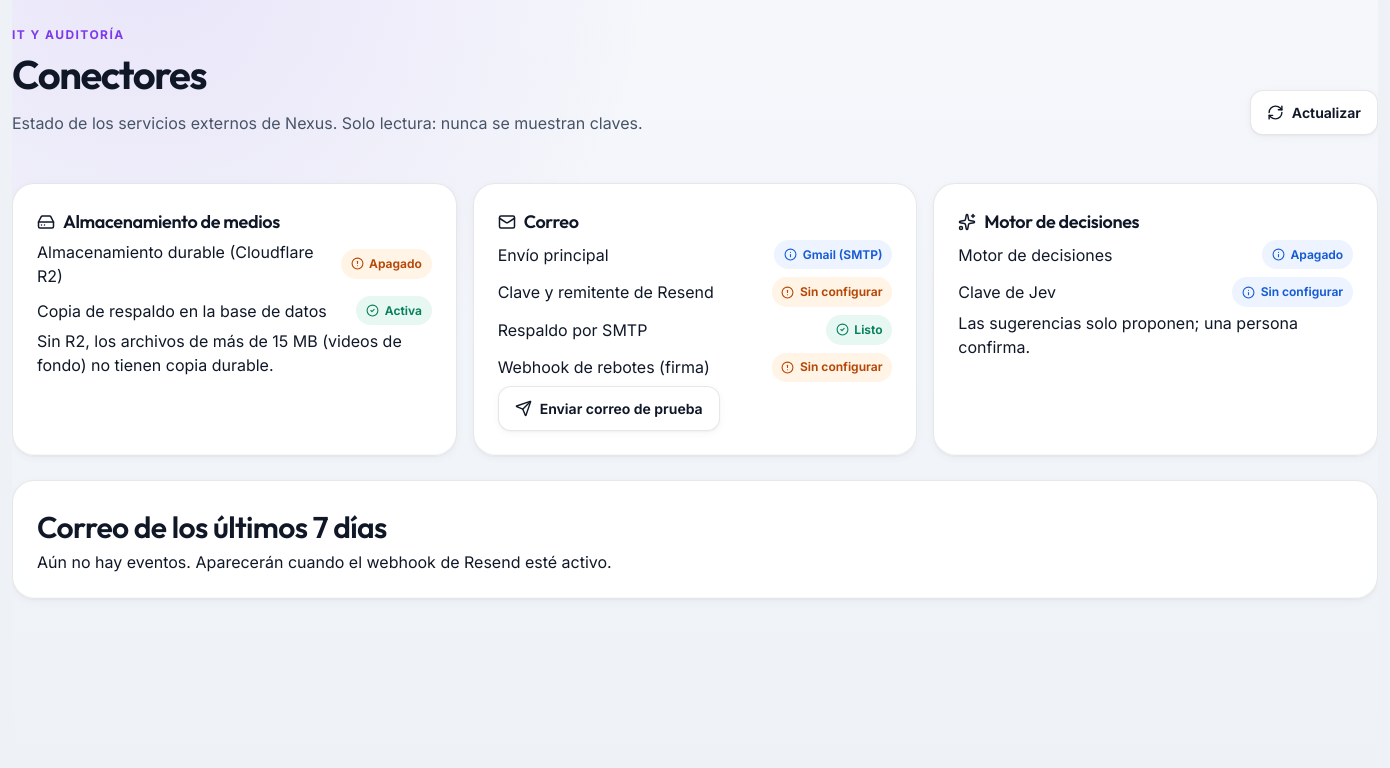
Test: explains a failed test email and the rate limit
This screenshot has width=1390, height=768.
Click the button "Enviar correo de prueba" at x=609, y=409, box left=498, top=386, right=720, bottom=431
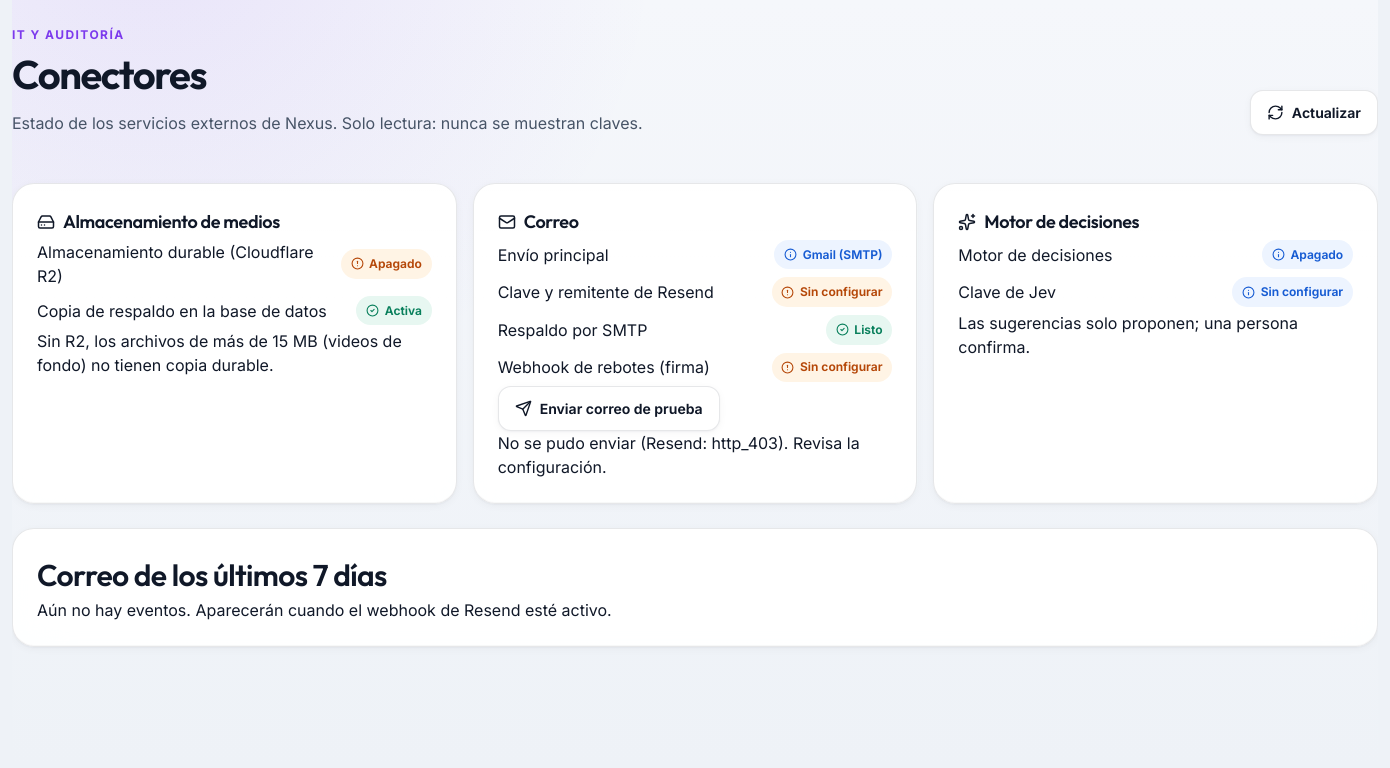
Result: the message "No se pudo enviar (Resend: http_403). Revisa la configuración." is shown at left=498, top=431, right=892, bottom=479
Click the button "Enviar correo de prueba" at x=609, y=409, box left=498, top=386, right=720, bottom=431
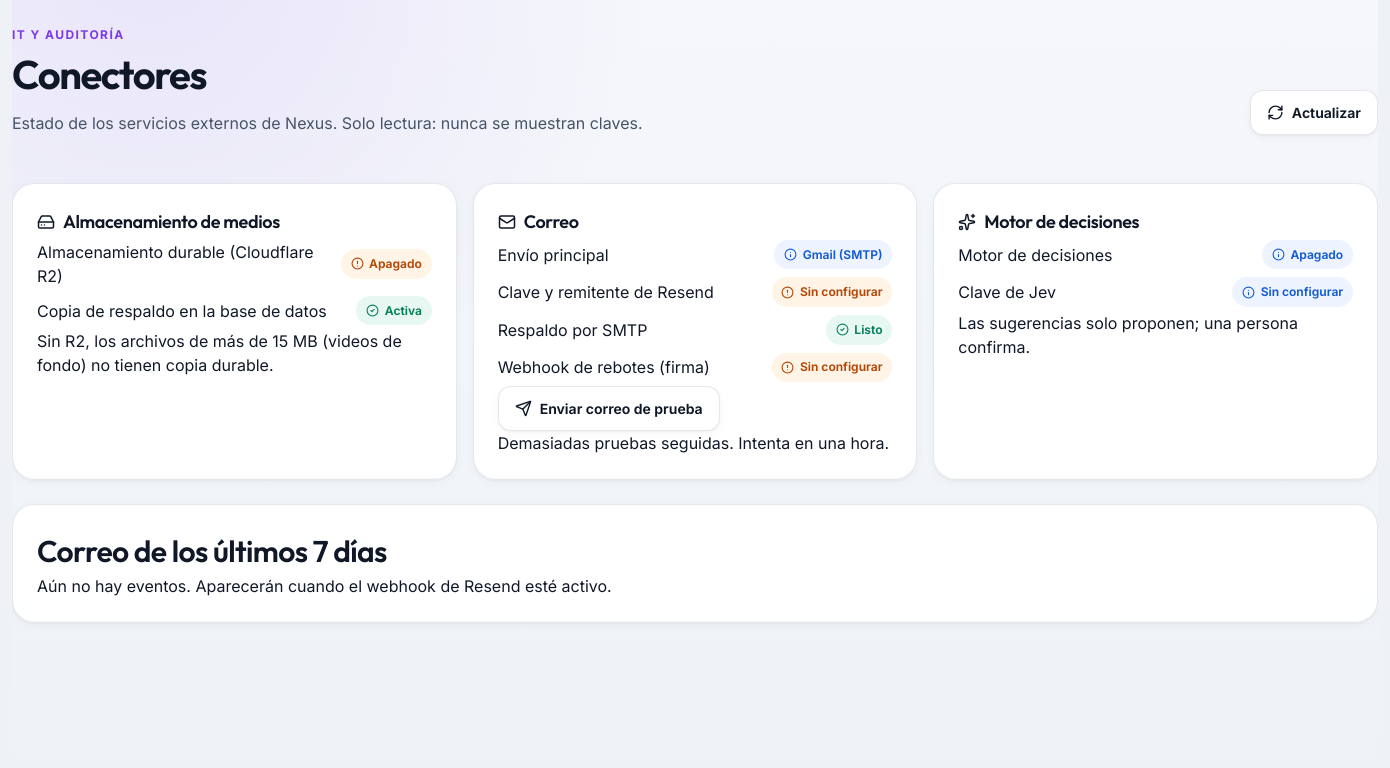
Result: the message "Demasiadas pruebas seguidas. Intenta en una hora." is shown at left=498, top=431, right=892, bottom=455
